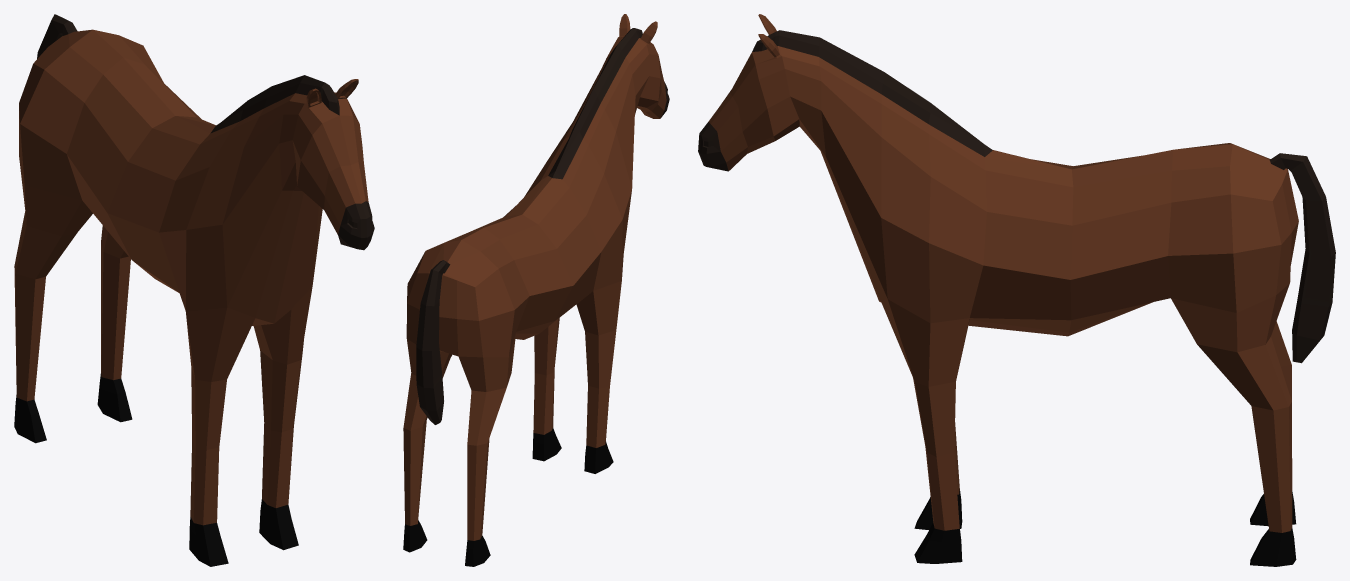
The model's file is Horse.glb.
3 views of the same model, side by side, from view 1: azimuth 30°, elevation 25°; view 2: azimuth 150°, elevation 25°; view 3: azimuth 270°, elevation 25° (orthographic). The views are drawn at different scales.
Parts seen in each view (by area): view 1: 17horseFinal; view 2: 17horseFinal; view 3: 17horseFinal.
Part boxes in pixels (x1,y1,x2,y2): 17horseFinal: [14, 14, 374, 566]; 17horseFinal: [403, 14, 669, 566]; 17horseFinal: [698, 14, 1335, 566].
Size of the model in its own units: 0.5351 by 1.87 by 2.09.
Materials: 1 (1 with a texture image).
